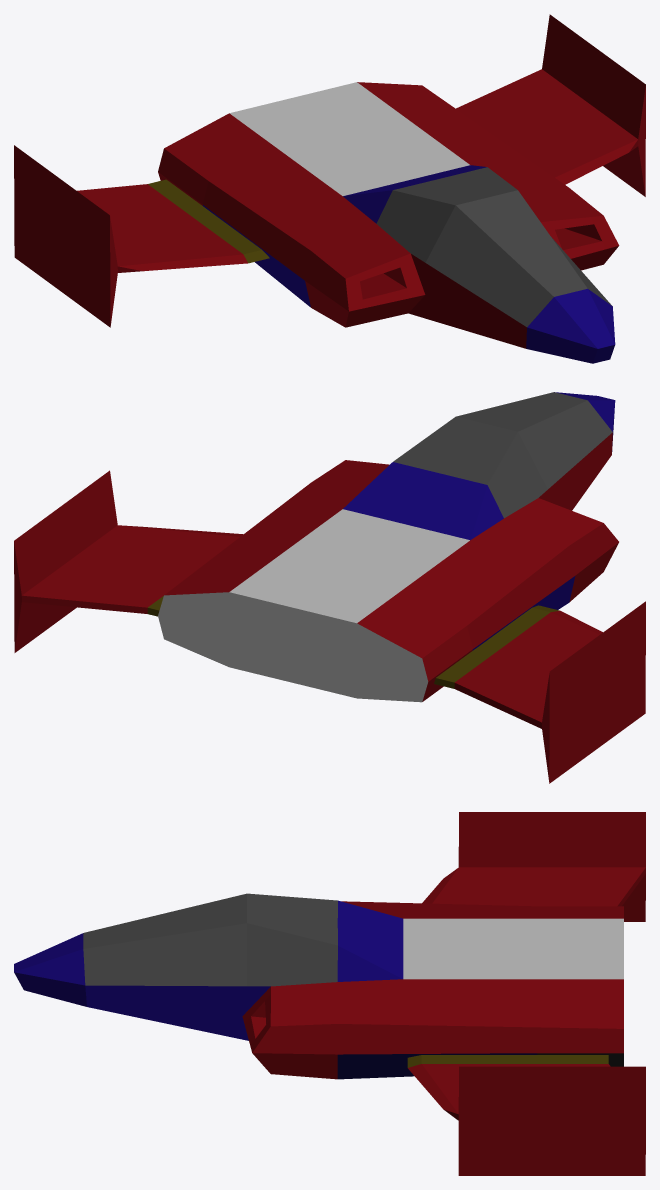
File: SPACEPLANE.fbx
The picture shows the model from 3 angles, top to bottom: view 1: azimuth 30°, elevation 25°; view 2: azimuth 150°, elevation 25°; view 3: azimuth 270°, elevation 25°; orthographic projection. The views are drawn at different scales.
Parts seen in each view (by area): view 1: Cube; view 2: Cube; view 3: Cube.
Part boxes in pixels (x1,y1,x2,y2): Cube: (14,14,645,363); Cube: (14,392,645,783); Cube: (14,812,645,1175).
Bounding box in the file's own units: 423 × 109 × 444.
